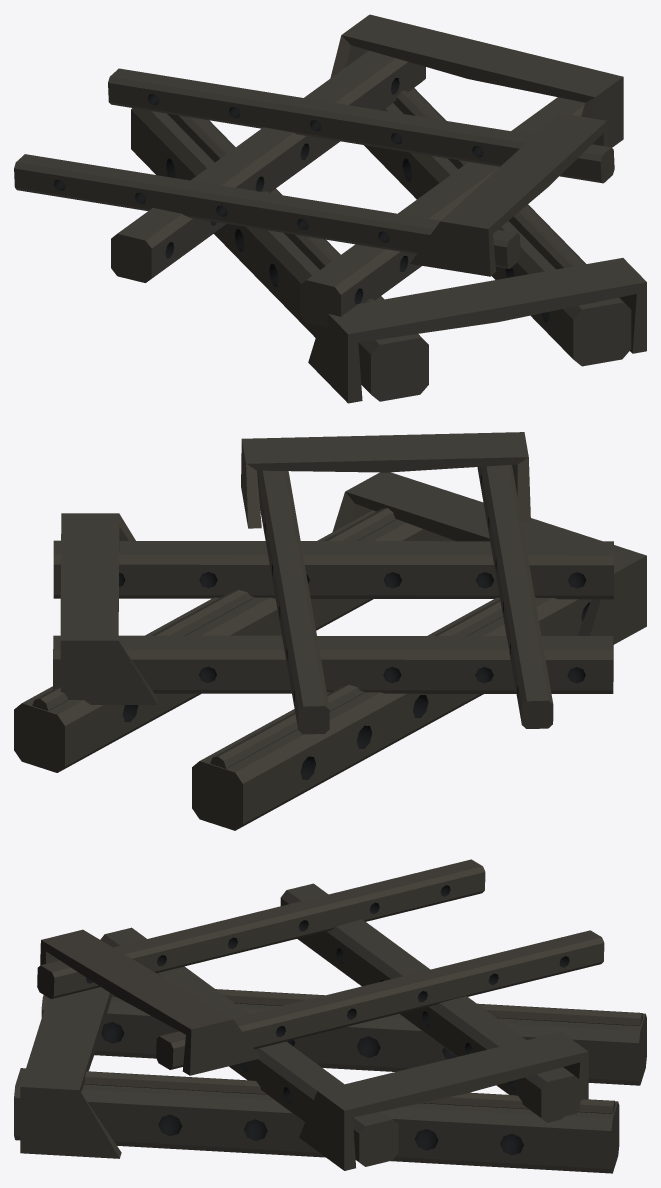
File: SpareParts.fbx
3 renders of one model, top to bottom at view 1: azimuth 30°, elevation 25°; view 2: azimuth 150°, elevation 25°; view 3: azimuth 270°, elevation 25°, orthographic. The views are drawn at different scales.
Visible parts, largest first — view 1: BrokenForkliftParts; view 2: BrokenForkliftParts; view 3: BrokenForkliftParts.
Part boxes in pixels (left/top/right/bottom): BrokenForkliftParts: left=14, top=14, right=646, bottom=403; BrokenForkliftParts: left=14, top=432, right=646, bottom=830; BrokenForkliftParts: left=14, top=859, right=646, bottom=1173.
Size of the model in its own units: 170 by 45.63 by 178.
1 material, 1 textured.
